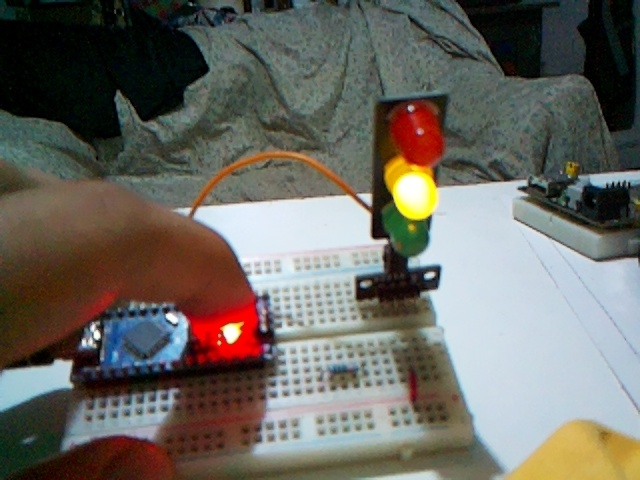traffic_light_yellow: (373, 93, 448, 257)
